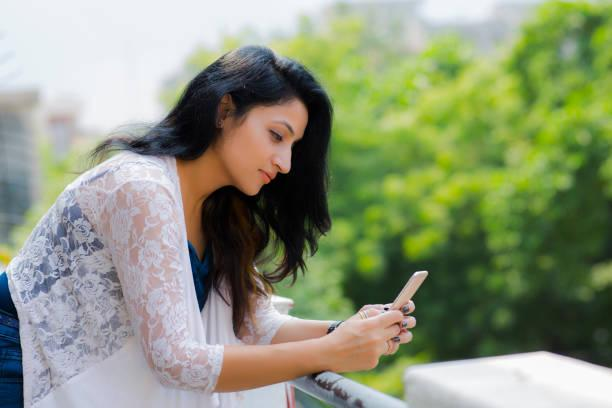Human: (0, 40, 410, 408)
